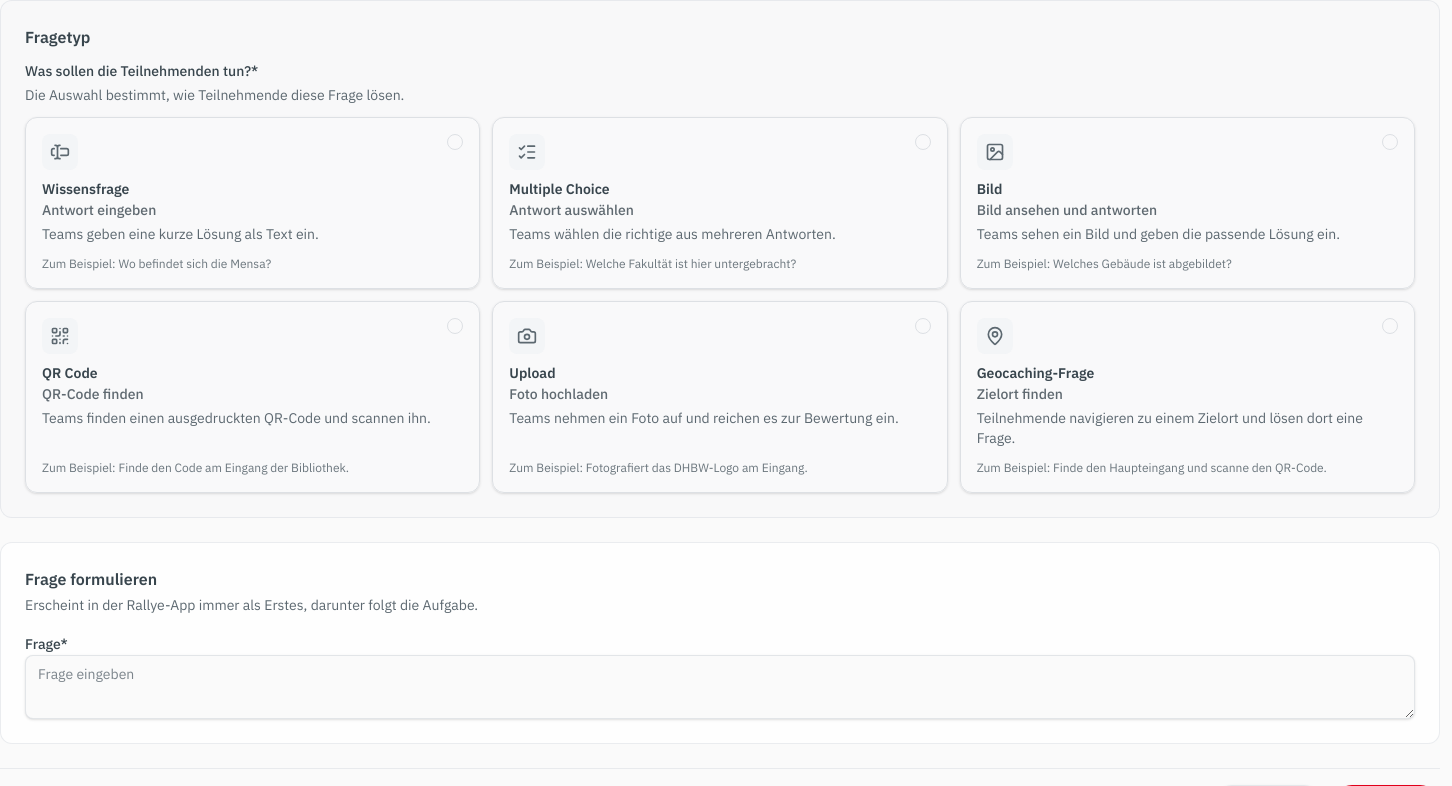
QuestionForm › describes how participants solve the selected question type
This screenshot has width=1452, height=786.
Expected: the text "Unter der Frage:" is not shown
Click the 1st radio button named "Antwort eingeben": (455, 142) [447,134,463,150]
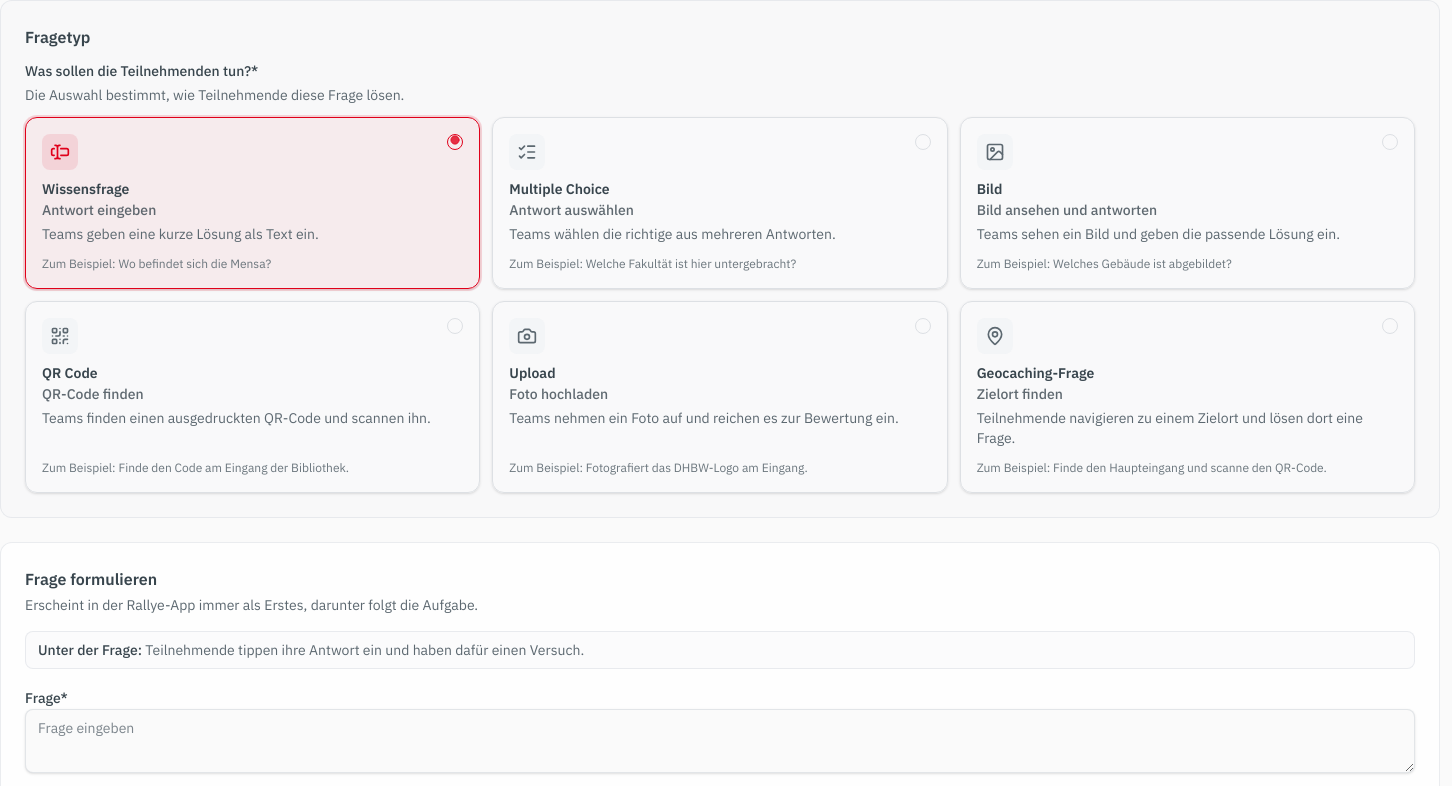
Expected: the text "Teilnehmende tippen ihre Antwort ein und haben dafür einen Versuch." is shown, [145,641,584,659]
Click the 6th radio button: (1390, 326) [1382,318,1398,334]
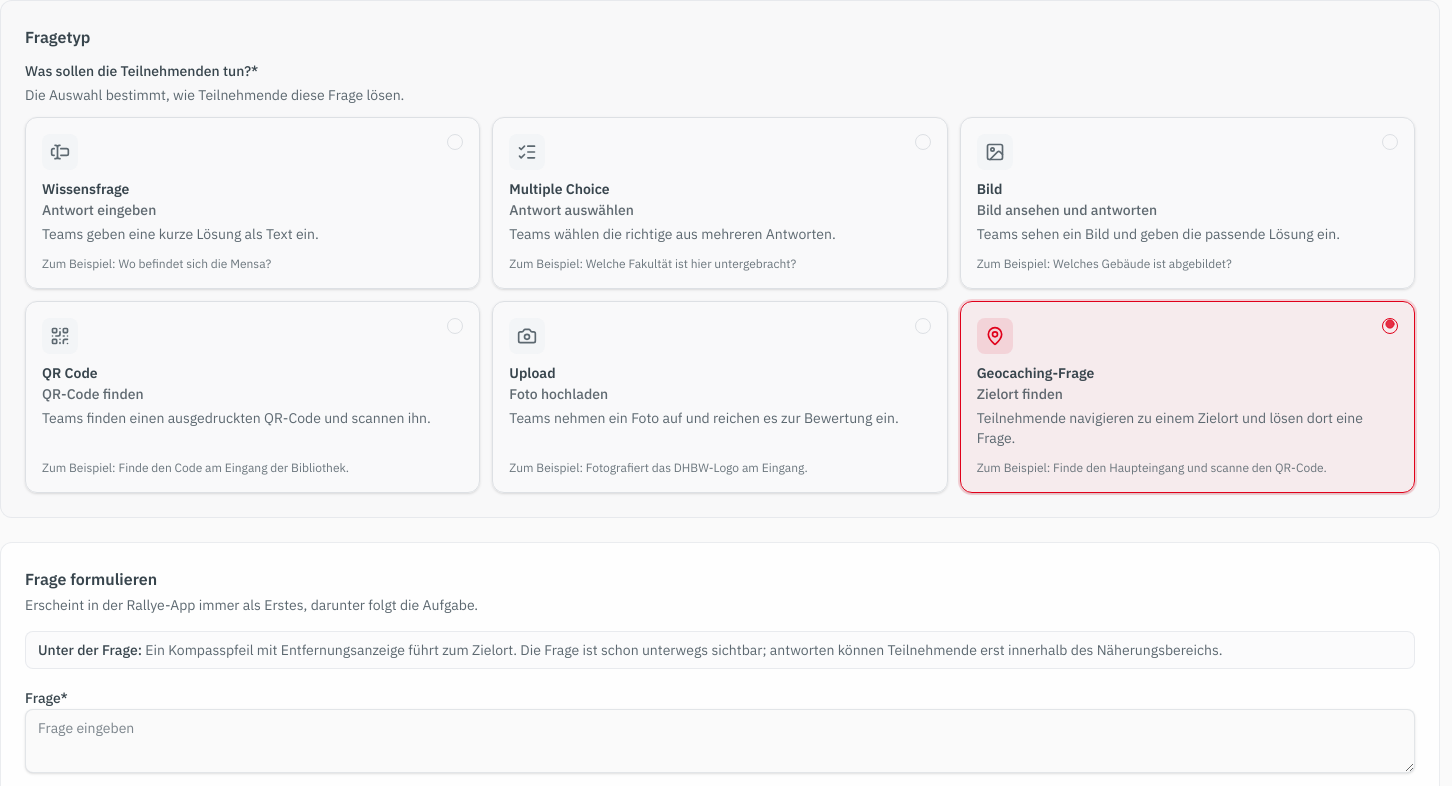
Expected: the text "Die Frage ist schon unterwegs sichtbar" is shown, [145,641,1223,659]
Expected: the text "Teilnehmende tippen ihre Antwort ein und haben dafür einen Versuch." is gone
